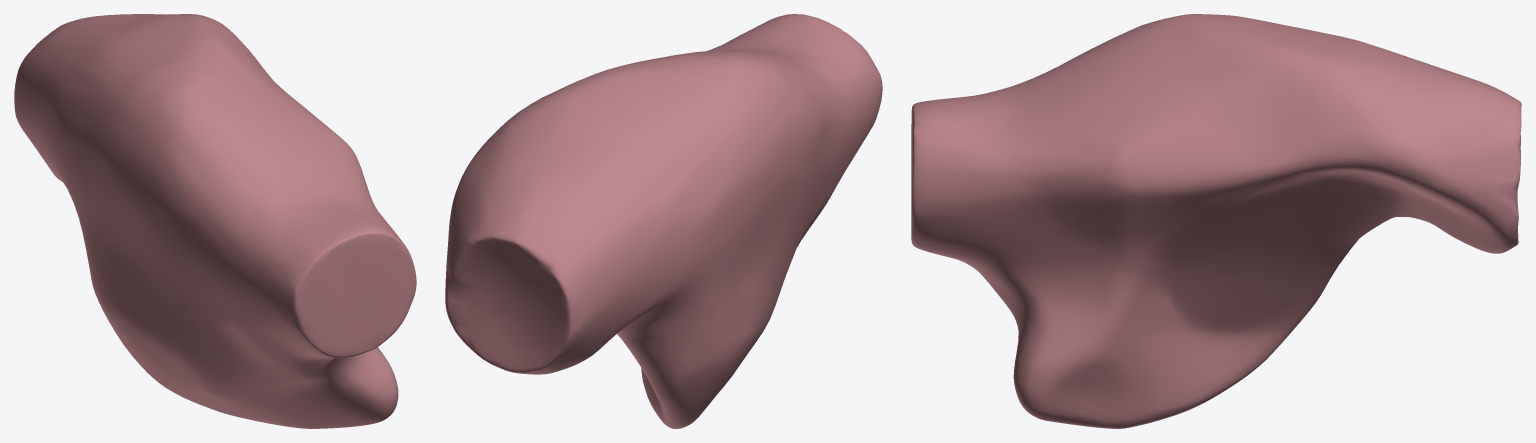
The picture shows the model from 3 angles, left to right: view 1: azimuth 30°, elevation 25°; view 2: azimuth 150°, elevation 25°; view 3: azimuth 270°, elevation 25°; orthographic projection. The views are drawn at different scales.
Parts seen in each view (by area): view 1: structure; view 2: structure; view 3: structure.
Part boxes in pixels (x1=…): structure: x1=14, y1=14, x2=416, y2=428; structure: x1=445, y1=14, x2=882, y2=428; structure: x1=911, y1=14, x2=1521, y2=428.
Size of the model in its own units: 37.42 by 61.13 by 92.22.
